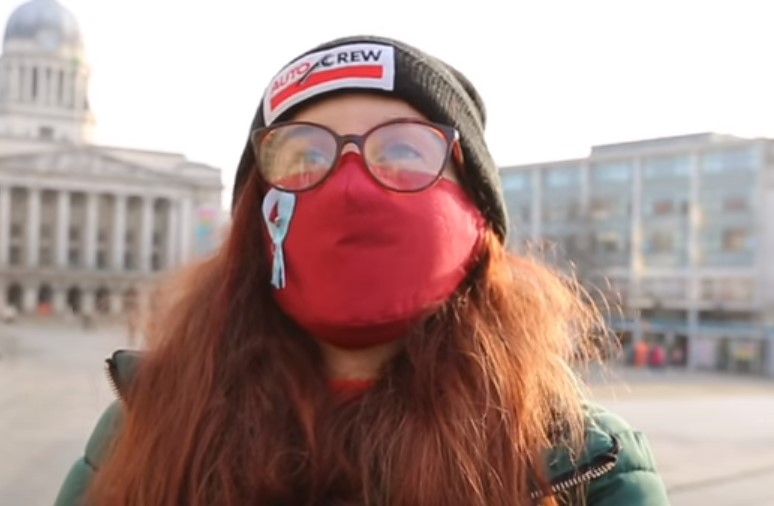face_with_mask: (229, 35, 506, 352)
